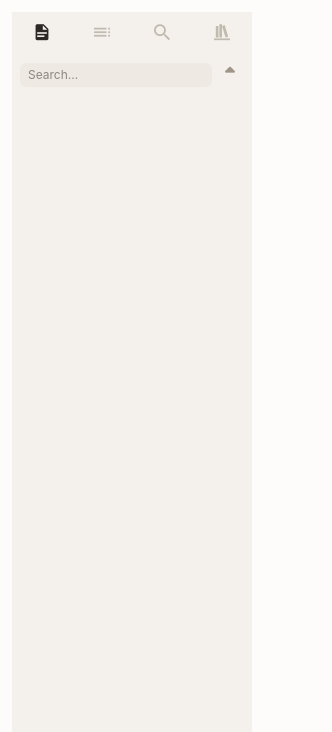
Scenario: Sidebar tabs › Files tab shows search + tree; Outline tab shows Outline component
This screenshot has width=332, height=732.
Expected: the field named "Search pages" is shown, x1=20 y1=63 x2=212 y2=87
Click the button named "Outline". click: (102, 32)
box: x1=72 y1=12 x2=132 y2=52
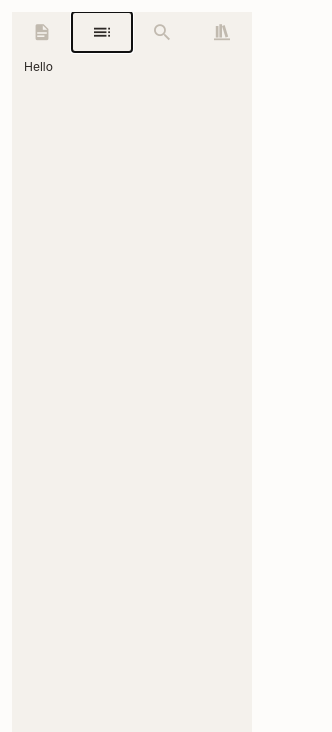
Expected: the button "Hello" is shown, x1=16 y1=55 x2=248 y2=79
